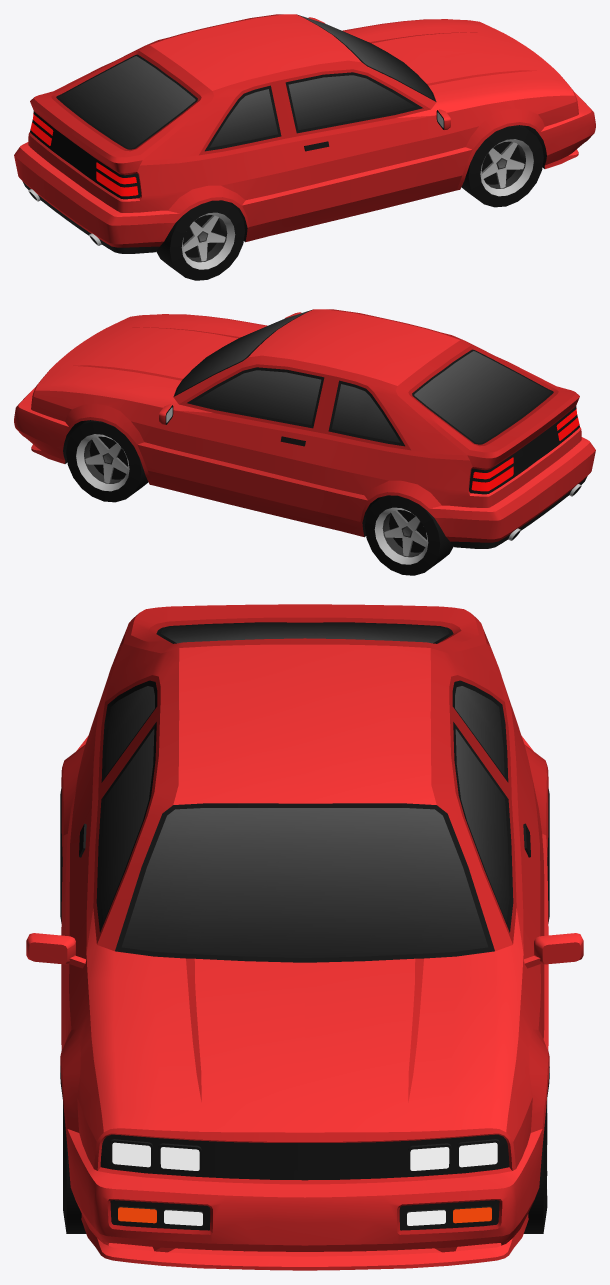
The model's file is Car_222.glb.
The picture shows the model from 3 angles, top to bottom: view 1: azimuth 30°, elevation 25°; view 2: azimuth 150°, elevation 25°; view 3: azimuth 270°, elevation 25°; orthographic projection. The views are drawn at different scales.
Parts seen in each view (by area): view 1: Car_222, wheel_3_Car_222_Wheel_2R, wheel_1_Car_222_Wheel_1R; view 2: Car_222, wheel_2_Car_222_Wheel_2L, wheel_0_Car_222_Wheel_1L; view 3: Car_222, wheel_0_Car_222_Wheel_1L, wheel_1_Car_222_Wheel_1R.
Boxes of the visible parts, bbox=[...] form: Car_222: bbox=[14, 14, 595, 253]; wheel_3_Car_222_Wheel_2R: bbox=[156, 200, 245, 280]; wheel_1_Car_222_Wheel_1R: bbox=[461, 125, 543, 207]; Car_222: bbox=[14, 309, 595, 548]; wheel_2_Car_222_Wheel_2L: bbox=[364, 495, 453, 575]; wheel_0_Car_222_Wheel_1L: bbox=[66, 420, 148, 502]; Car_222: bbox=[26, 604, 583, 1270]; wheel_0_Car_222_Wheel_1L: bbox=[523, 1097, 547, 1233]; wheel_1_Car_222_Wheel_1R: bbox=[63, 1101, 86, 1233].
Bounding box in the file's own units: 4.13 × 1.3 × 2.01.
Materials: 2 (2 with a texture image).
